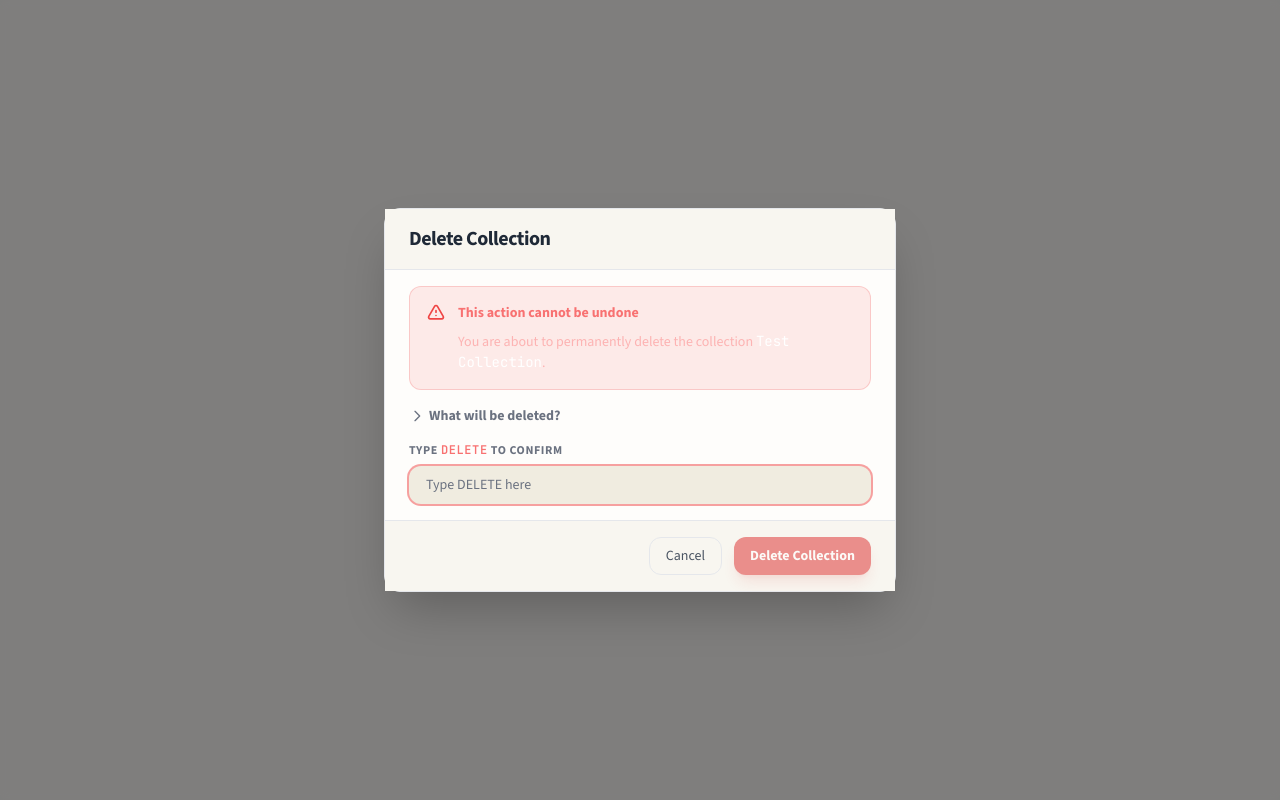
Test case: DeleteCollectionModal › Details Toggle › should show deletion details when toggle is clicked
Expected: the text "Jobs:" is not shown
Click to show
Click the button "What will be deleted?" at (485, 416), box [409,406,560,426]
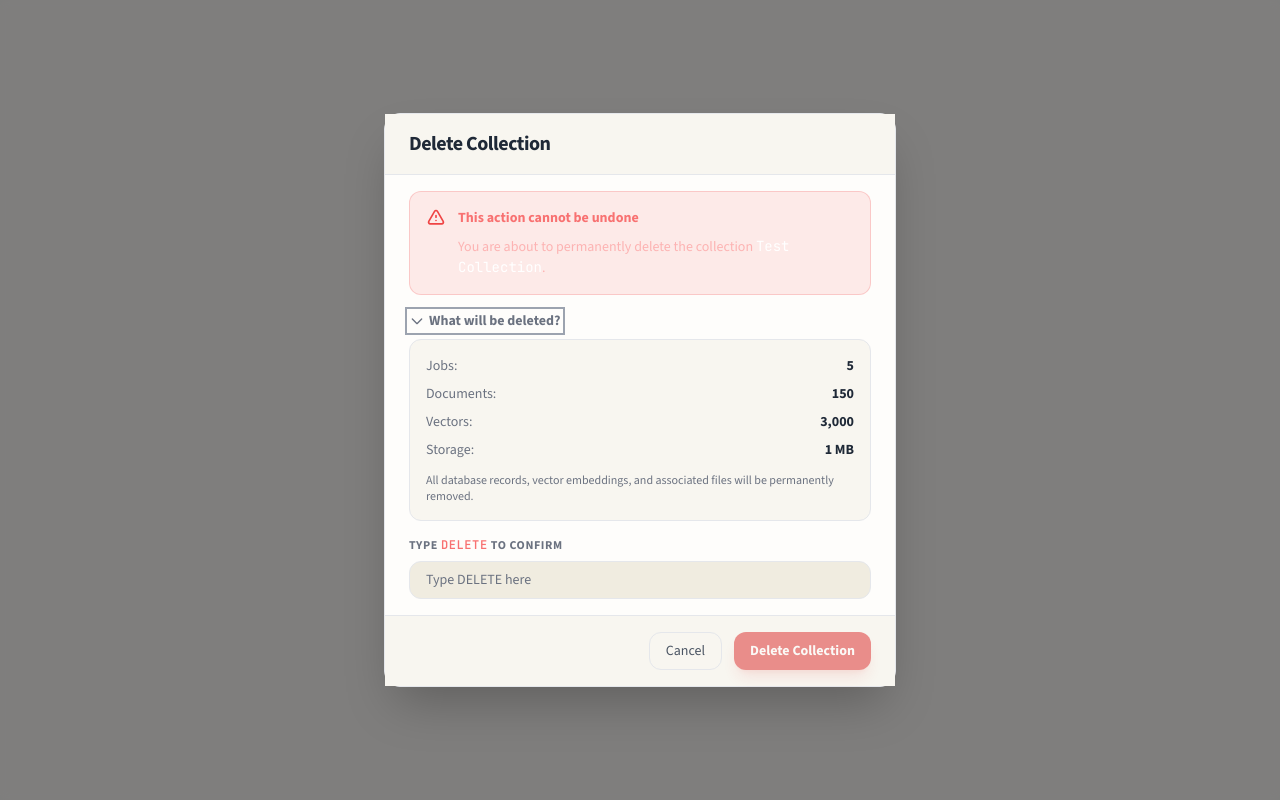
Expected: the text "Jobs:" is shown, [426,356,457,376]
Expected: the text "5" is shown, [847,356,854,376]
Expected: the text "Documents:" is shown, [426,384,496,404]
